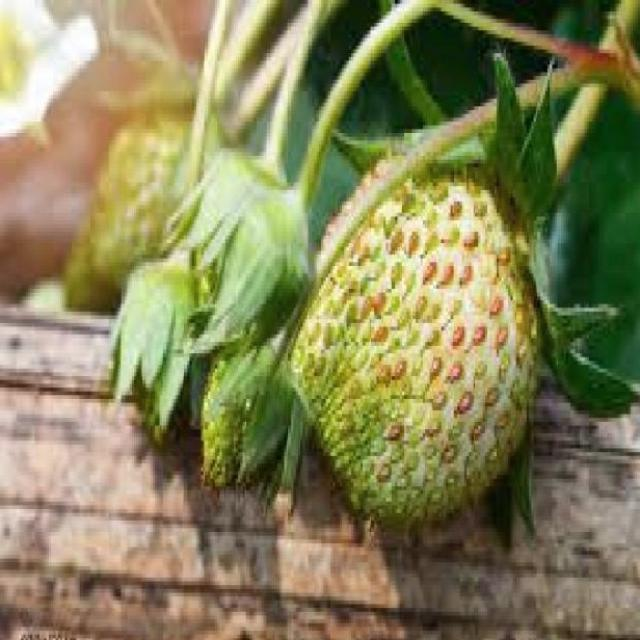Healthy Fruit: (286, 161, 542, 529)
